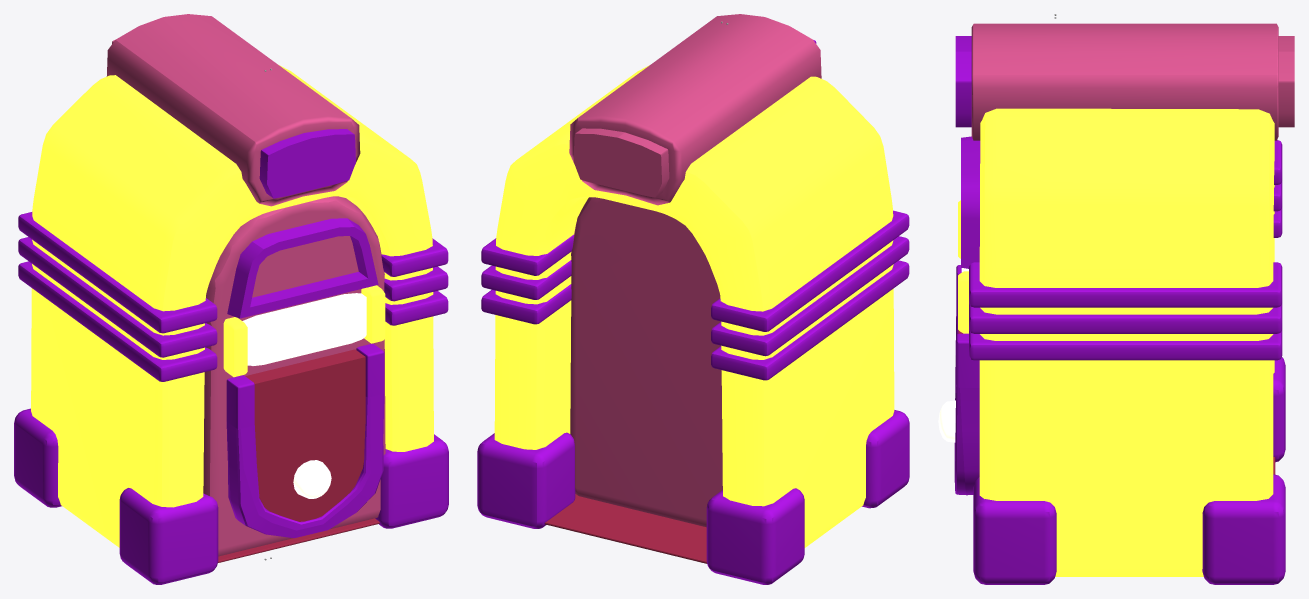
Rendered from ROCOLA TEXTURA 1.fbx.
The picture shows the model from 3 angles, left to right: view 1: azimuth 30°, elevation 25°; view 2: azimuth 150°, elevation 25°; view 3: azimuth 270°, elevation 25°; orthographic projection. The views are drawn at different scales.
Parts seen in each view (by area): view 1: ROCOLA_FINAL.029, ROCOLA_FINAL.001, ROCOLA_FINAL.023, ROCOLA_FINAL.028, ROCOLA_FINAL.027, ROCOLA_FINAL.030, ROCOLA_FINAL.026, ROCOLA_FINAL.034, ROCOLA_FINAL.035, ROCOLA_FINAL.032, ROCOLA_FINAL.016, ROCOLA_FINAL.015 (+9 smaller); view 2: ROCOLA_FINAL.029, ROCOLA_FINAL.023, ROCOLA_FINAL.001, ROCOLA_FINAL.031, ROCOLA_FINAL.033, ROCOLA_FINAL, ROCOLA_FINAL.016, ROCOLA_FINAL.015, ROCOLA_FINAL.014, ROCOLA_FINAL.030, ROCOLA_FINAL.019, ROCOLA_FINAL.017 (+1 smaller); view 3: ROCOLA_FINAL.029, ROCOLA_FINAL.001, ROCOLA_FINAL.033, ROCOLA_FINAL.032, ROCOLA_FINAL.019, ROCOLA_FINAL.017, ROCOLA_FINAL.018, ROCOLA_FINAL.027, ROCOLA_FINAL.026, ROCOLA_FINAL.035, ROCOLA_FINAL.031, ROCOLA_FINAL.025 (+1 smaller).
Part boxes in pixels (box(x1,y1,x2,y2)): ROCOLA_FINAL.029: box(31, 65, 433, 547); ROCOLA_FINAL.001: box(106, 14, 360, 206); ROCOLA_FINAL.023: box(203, 196, 385, 556); ROCOLA_FINAL.028: box(245, 349, 365, 521); ROCOLA_FINAL.027: box(226, 343, 384, 538); ROCOLA_FINAL.030: box(119, 488, 218, 584); ROCOLA_FINAL.026: box(227, 218, 378, 318); ROCOLA_FINAL.034: box(242, 293, 366, 365); ROCOLA_FINAL.035: box(259, 129, 355, 198); ROCOLA_FINAL.032: box(375, 434, 448, 528); ROCOLA_FINAL.016: box(18, 212, 217, 333); ROCOLA_FINAL.015: box(18, 237, 217, 357); ROCOLA_FINAL.029: box(494, 65, 894, 547); ROCOLA_FINAL.023: box(570, 197, 722, 527); ROCOLA_FINAL.001: box(569, 14, 821, 205); ROCOLA_FINAL.031: box(706, 488, 804, 584); ROCOLA_FINAL.033: box(477, 432, 575, 528); ROCOLA_FINAL: box(545, 494, 707, 563); ROCOLA_FINAL.016: box(711, 210, 909, 331); ROCOLA_FINAL.015: box(711, 236, 909, 356); ROCOLA_FINAL.014: box(711, 260, 909, 380); ROCOLA_FINAL.030: box(862, 410, 909, 508); ROCOLA_FINAL.019: box(481, 234, 574, 275); ROCOLA_FINAL.017: box(481, 284, 571, 324); ROCOLA_FINAL.029: box(979, 108, 1274, 576); ROCOLA_FINAL.001: box(971, 23, 1294, 140); ROCOLA_FINAL.033: box(1202, 474, 1285, 584); ROCOLA_FINAL.032: box(973, 477, 1056, 584); ROCOLA_FINAL.019: box(969, 262, 1282, 307); ROCOLA_FINAL.017: box(969, 329, 1282, 360); ROCOLA_FINAL.018: box(969, 303, 1282, 333); ROCOLA_FINAL.027: box(954, 265, 979, 495); ROCOLA_FINAL.026: box(961, 136, 980, 268); ROCOLA_FINAL.035: box(955, 36, 971, 127); ROCOLA_FINAL.031: box(1273, 357, 1285, 462); ROCOLA_FINAL.025: box(958, 271, 968, 333).
Bounding box in the file's own units: 246 × 384 × 233.
